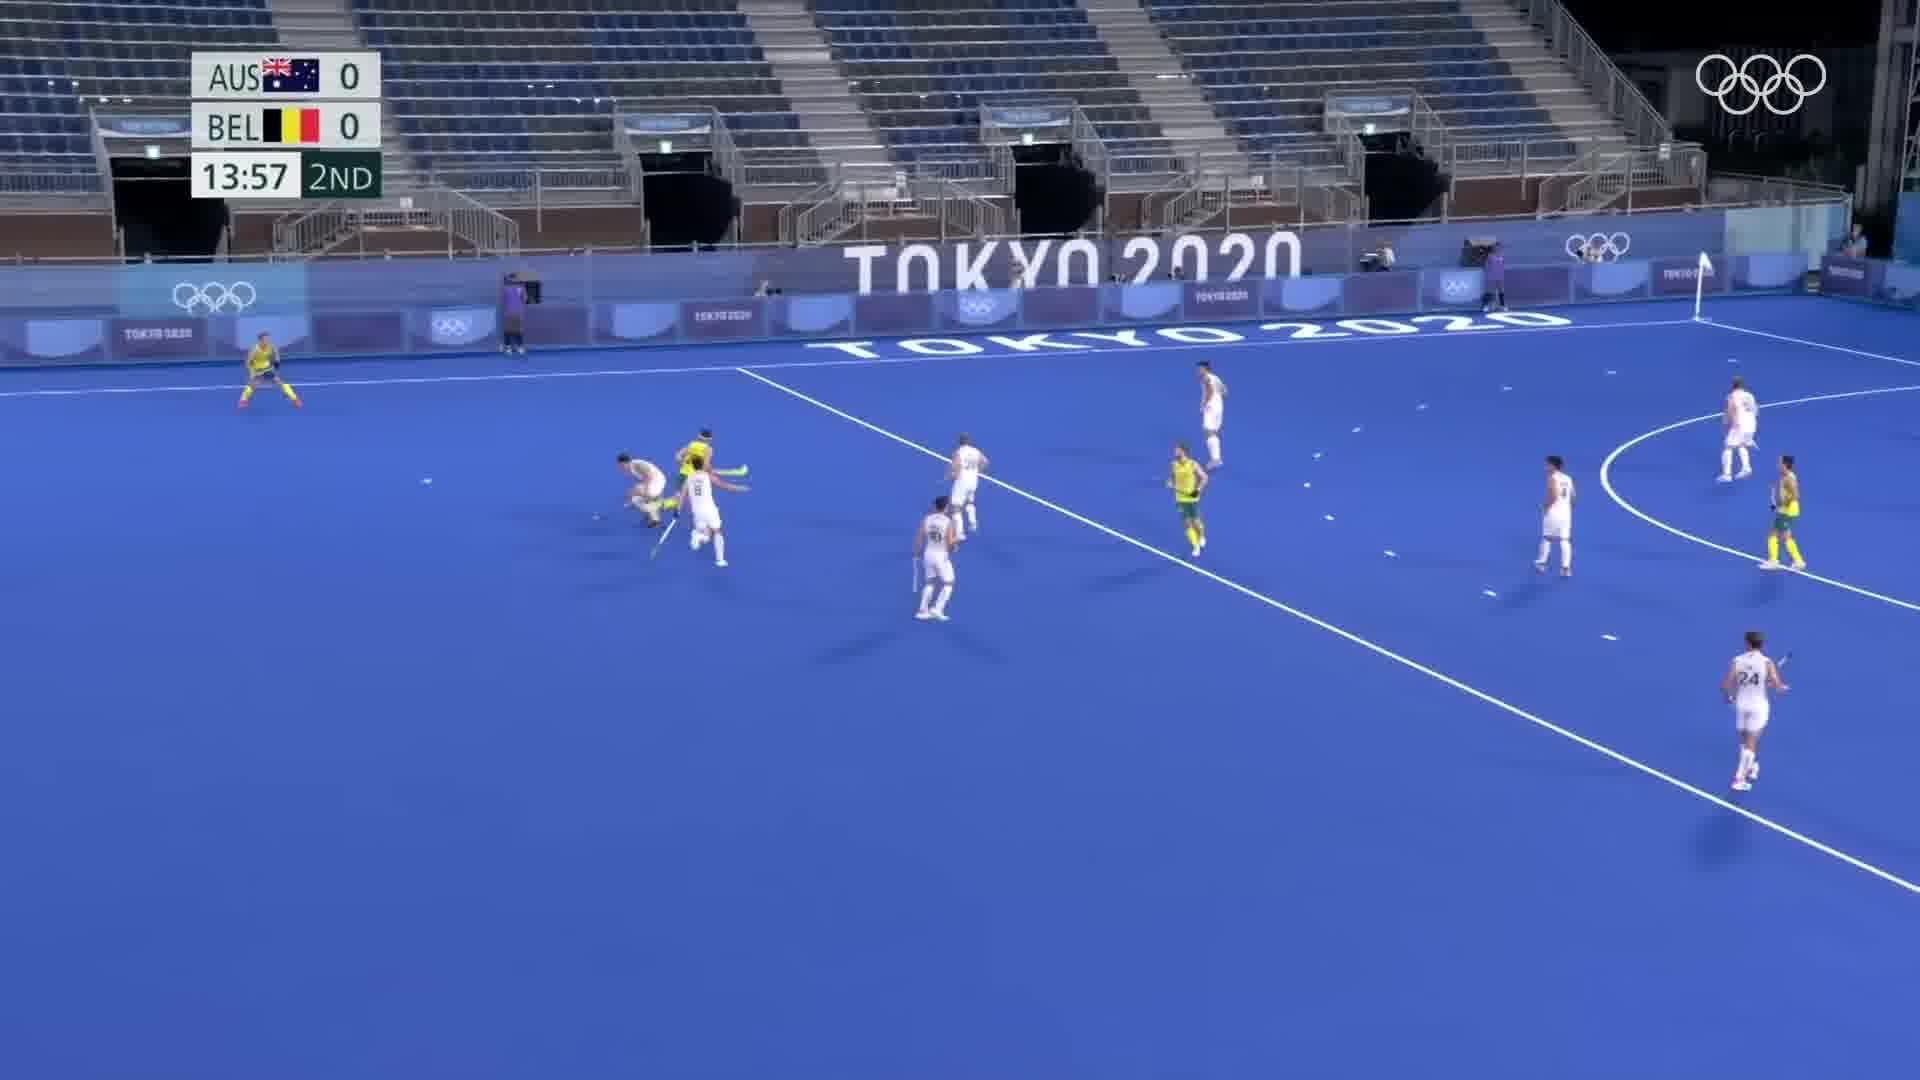ball: (415, 468, 438, 492)
